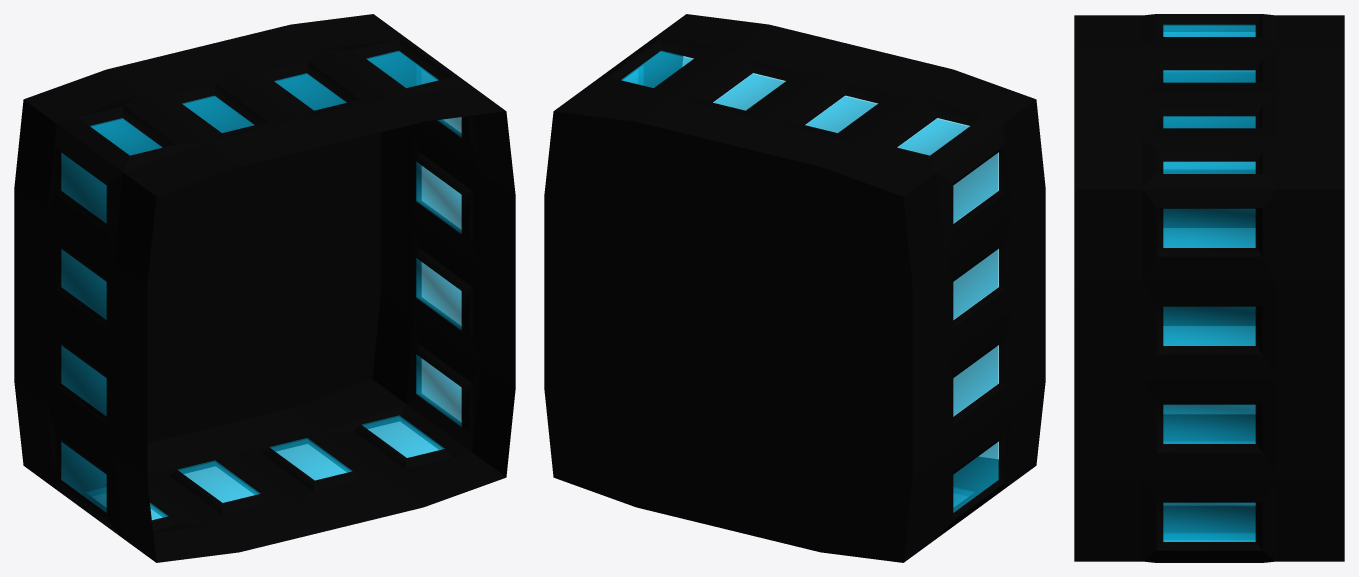
The model's file is TopPieceBuilding.fbx.
3 renders of one model, left to right at view 1: azimuth 30°, elevation 25°; view 2: azimuth 150°, elevation 25°; view 3: azimuth 270°, elevation 25°, orthographic.
Parts seen in each view (by area): view 1: Cube.002; view 2: Cube.002; view 3: Cube.002.
Boxes of the visible parts, box(x1,y1,x2,y2) form: Cube.002: box(14, 14, 515, 562); Cube.002: box(544, 14, 1045, 562); Cube.002: box(1074, 14, 1344, 562).
Bounding box in the file's own units: 800 × 800 × 500.
